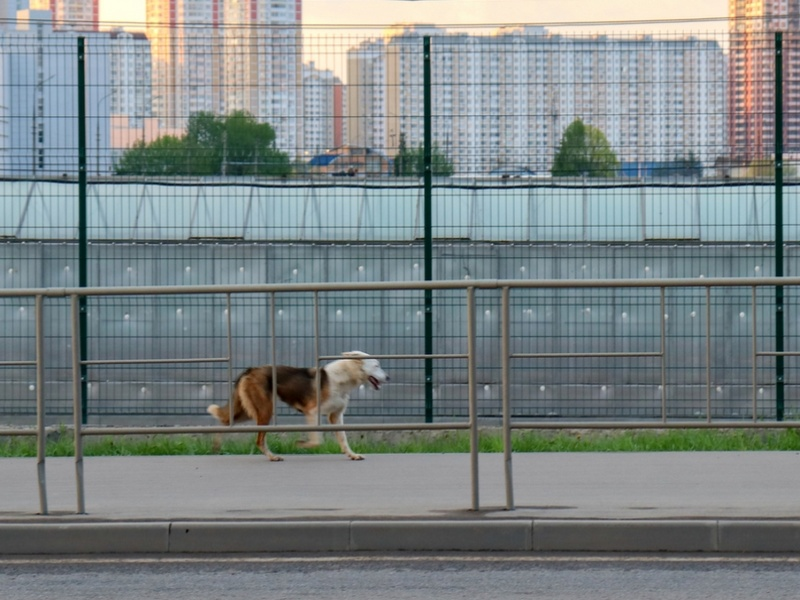dog: (202, 347, 394, 476)
